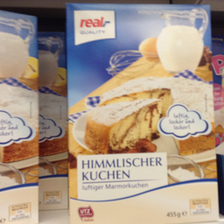cake: (66, 1, 218, 223)
